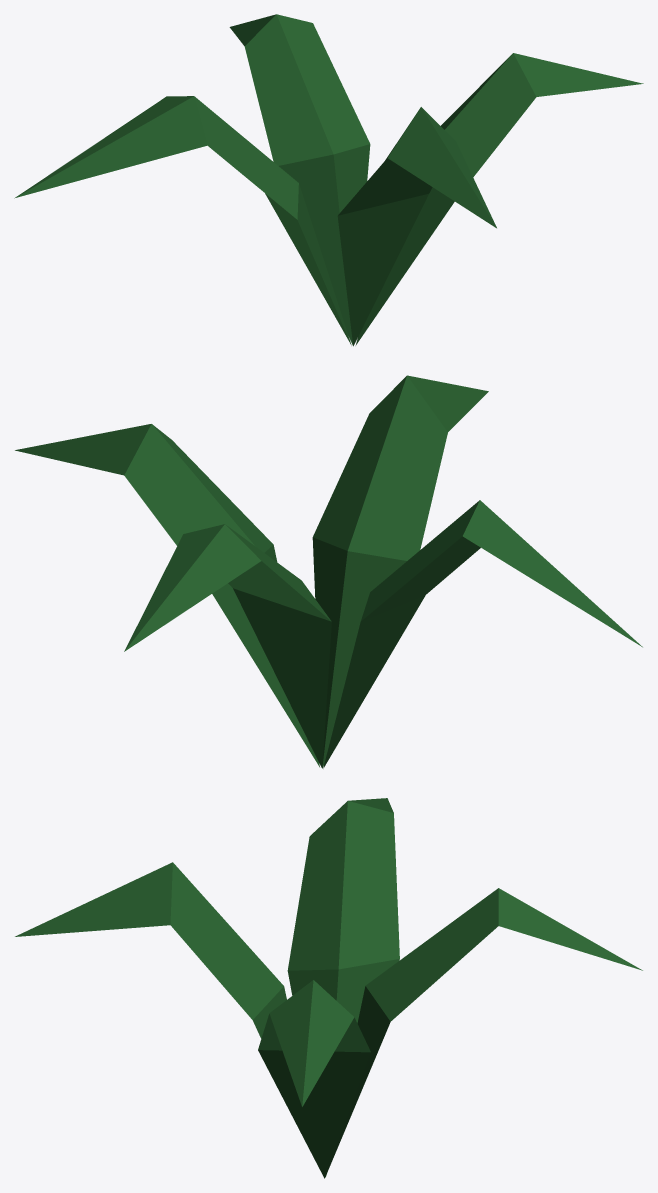
The model's file is TB_Env_Grass_Short_A.FBX.
3 renders of one model, top to bottom at view 1: azimuth 30°, elevation 25°; view 2: azimuth 150°, elevation 25°; view 3: azimuth 270°, elevation 25°, orthographic. The views are drawn at different scales.
Visible parts, largest first — view 1: TB_Env_Grass_Short_A; view 2: TB_Env_Grass_Short_A; view 3: TB_Env_Grass_Short_A.
Boxes of the visible parts, x1,y1,x2,y2 form: TB_Env_Grass_Short_A: [14, 14, 643, 346]; TB_Env_Grass_Short_A: [15, 375, 642, 768]; TB_Env_Grass_Short_A: [15, 798, 642, 1178].
Bounding box in the file's own units: 0.9274 × 0.4396 × 0.799.
